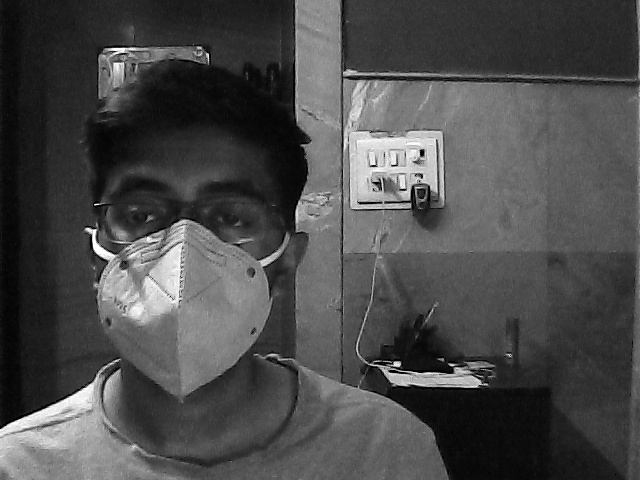mask: (88, 143, 299, 401)
